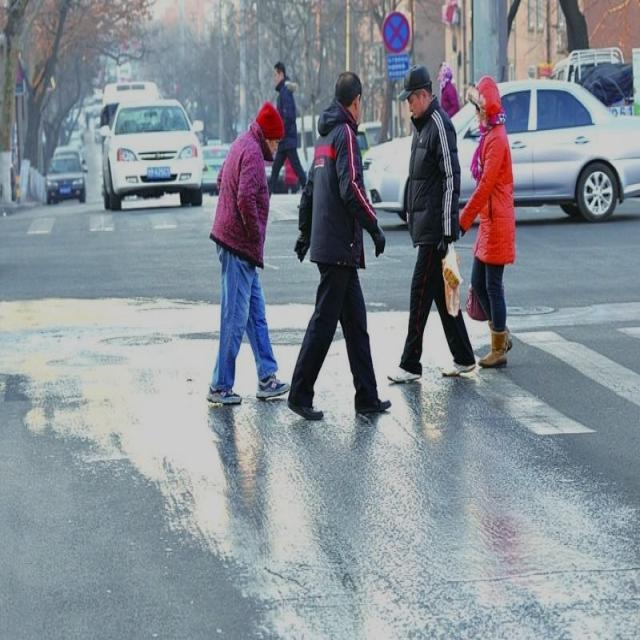non-fight: (288, 70, 390, 421), (384, 65, 474, 384), (208, 99, 292, 407), (454, 77, 515, 368)
